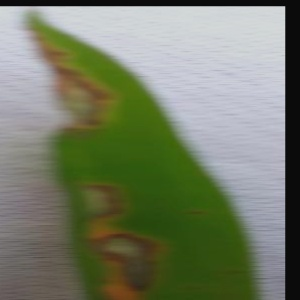Brown_Spot: (83, 230, 161, 292), (77, 160, 132, 227)
